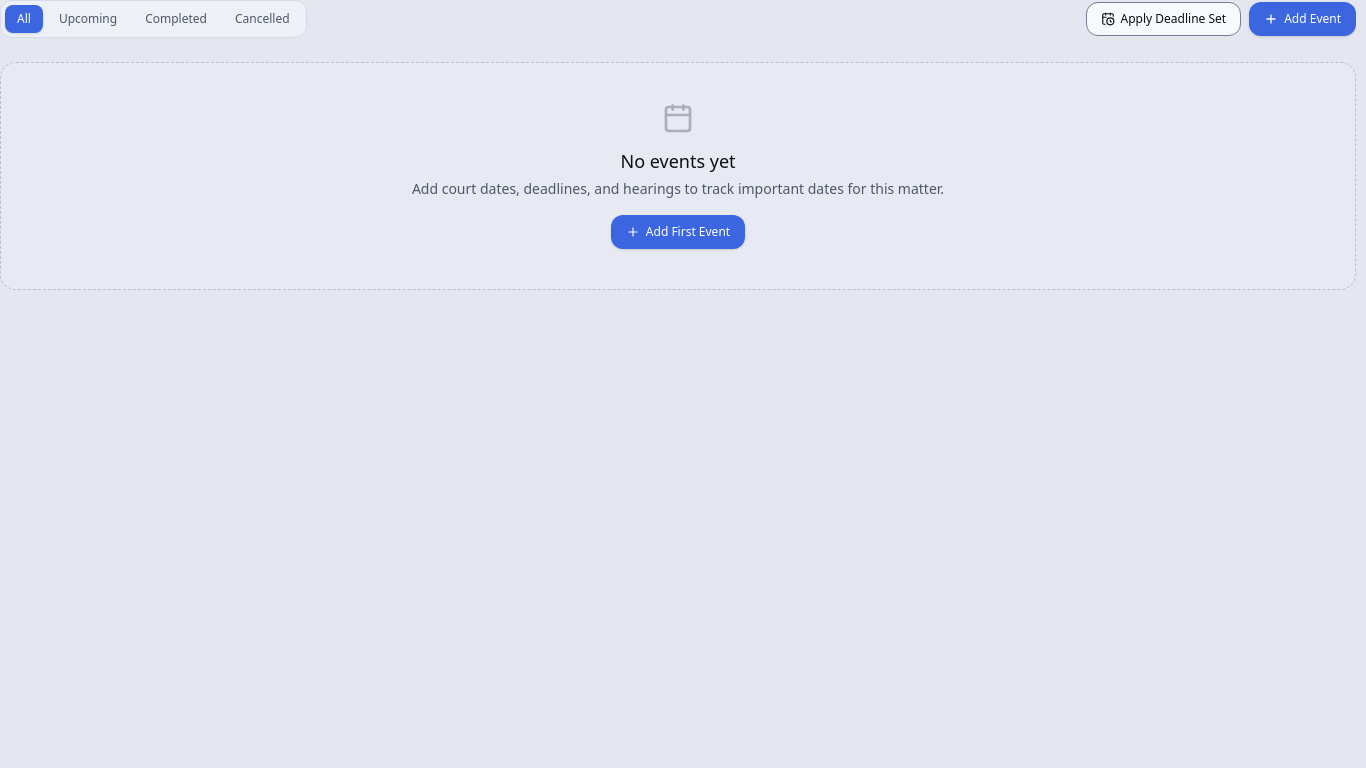
the end of an event › withholds Continue while the last day is before the first, and says why
Check: the text "No events yet" is shown, box [620,149,736,173]
Click the button "Add Event" at (1303, 19), box [1249,2,1356,36]
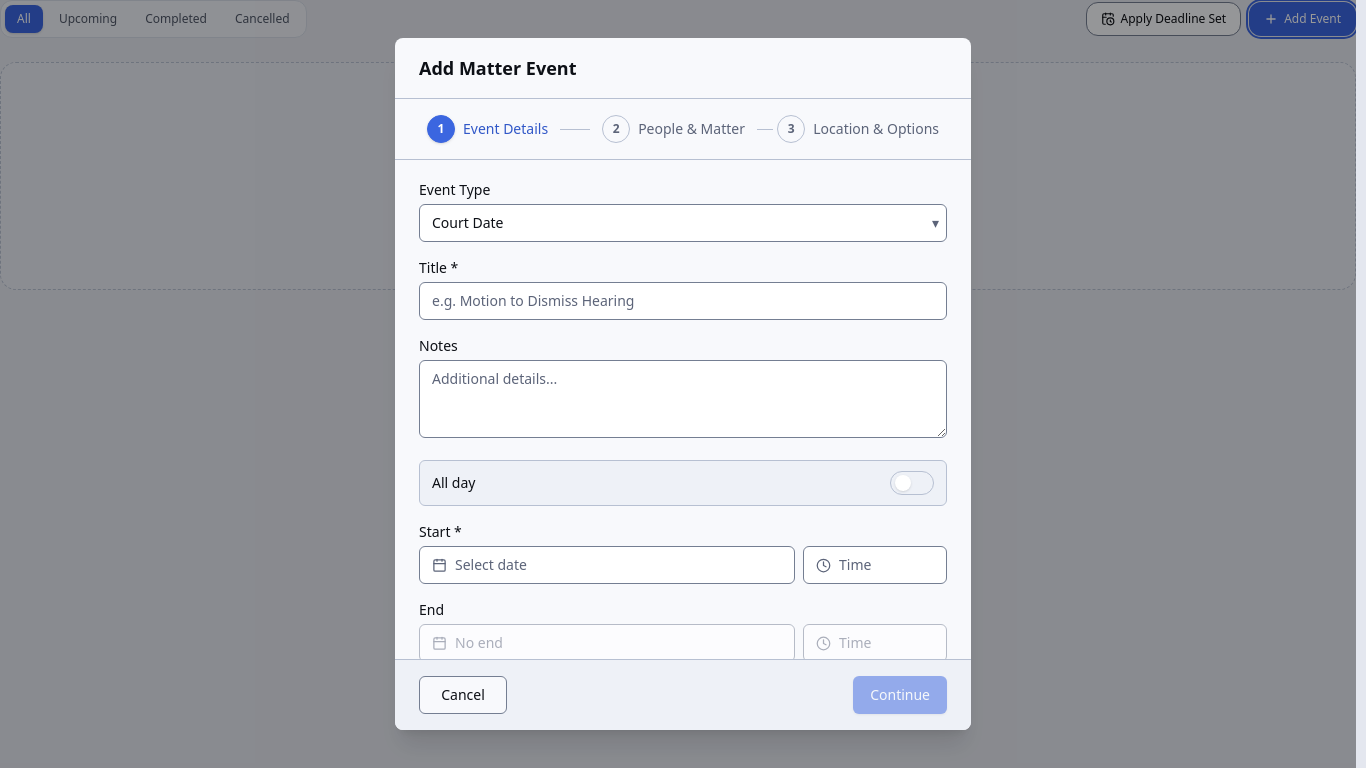
Type "Trial" into the field with placeholder "e.g. Motion to Dismiss Hearing" at (683, 301), box [419,282,947,320]
Click the switch named "All day" at (912, 483), box [890,471,934,495]
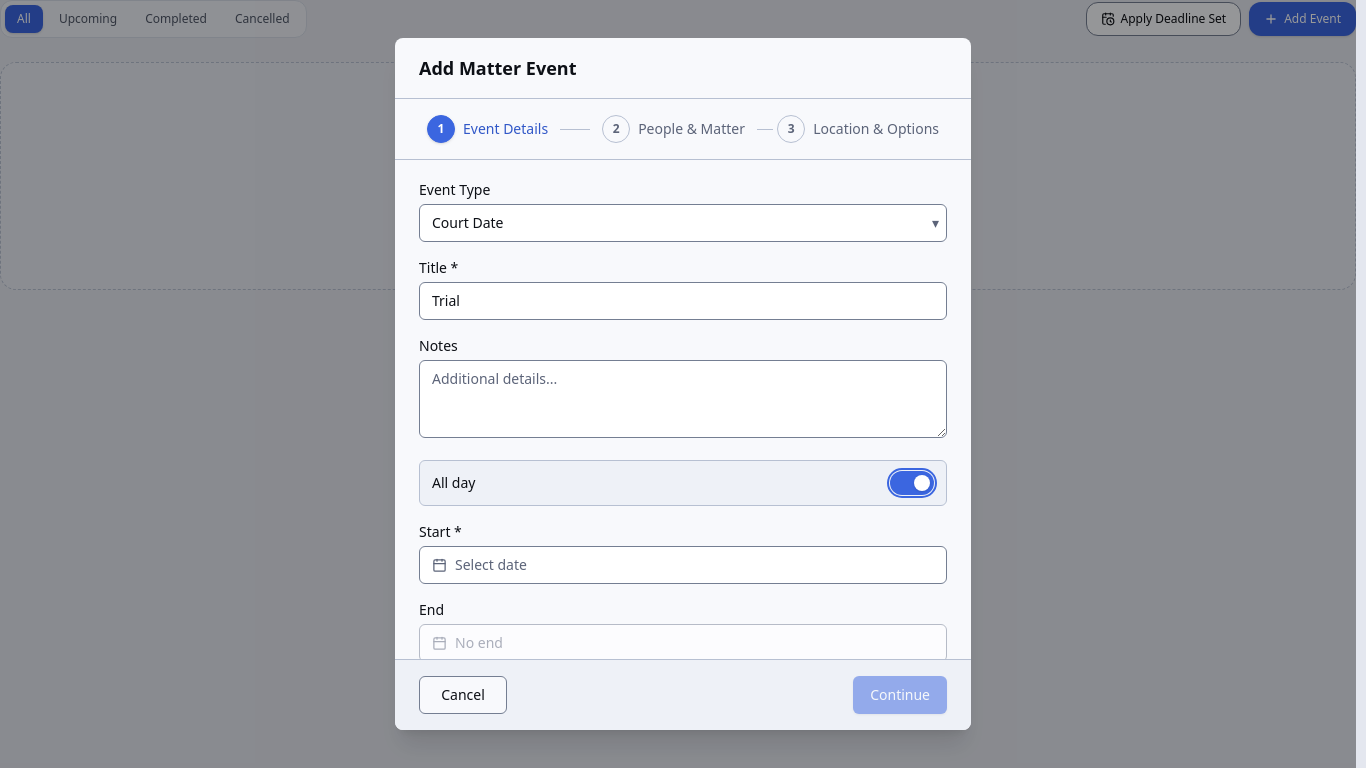
Click the button "Select date" at (491, 565), box [419,546,947,584]
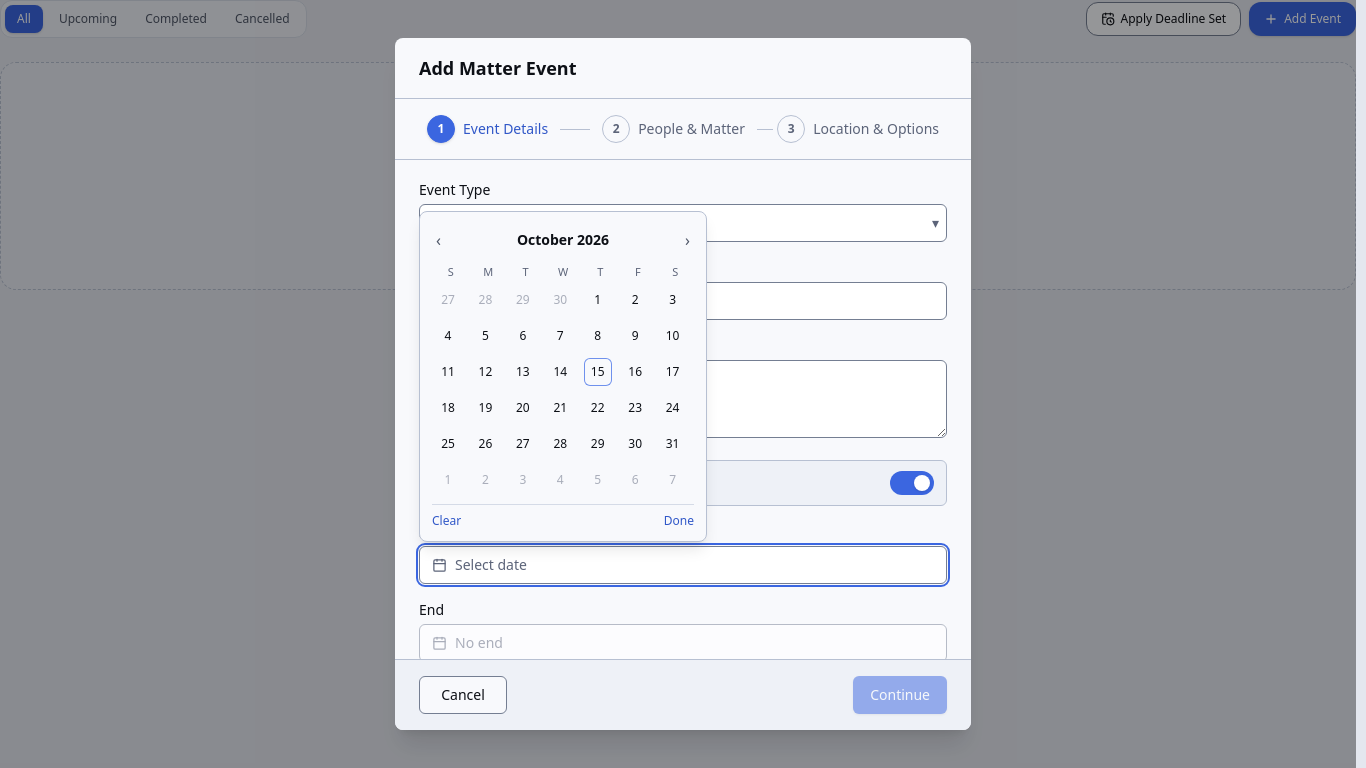
Click the button "20" at (523, 408), box [509,394,537,422]
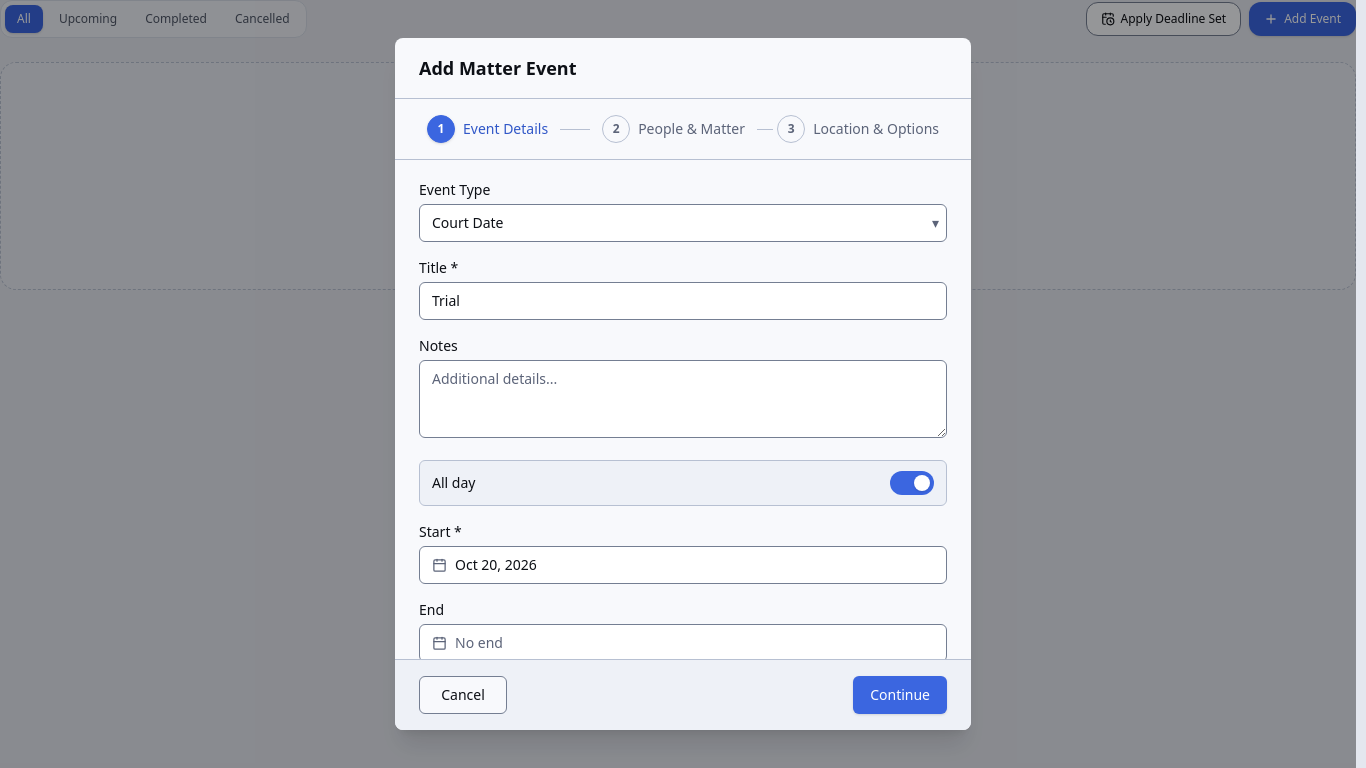
Check: the button "Continue" is enabled, box [853,676,947,714]
Click the button "No end" at (479, 643), box [419,624,947,662]
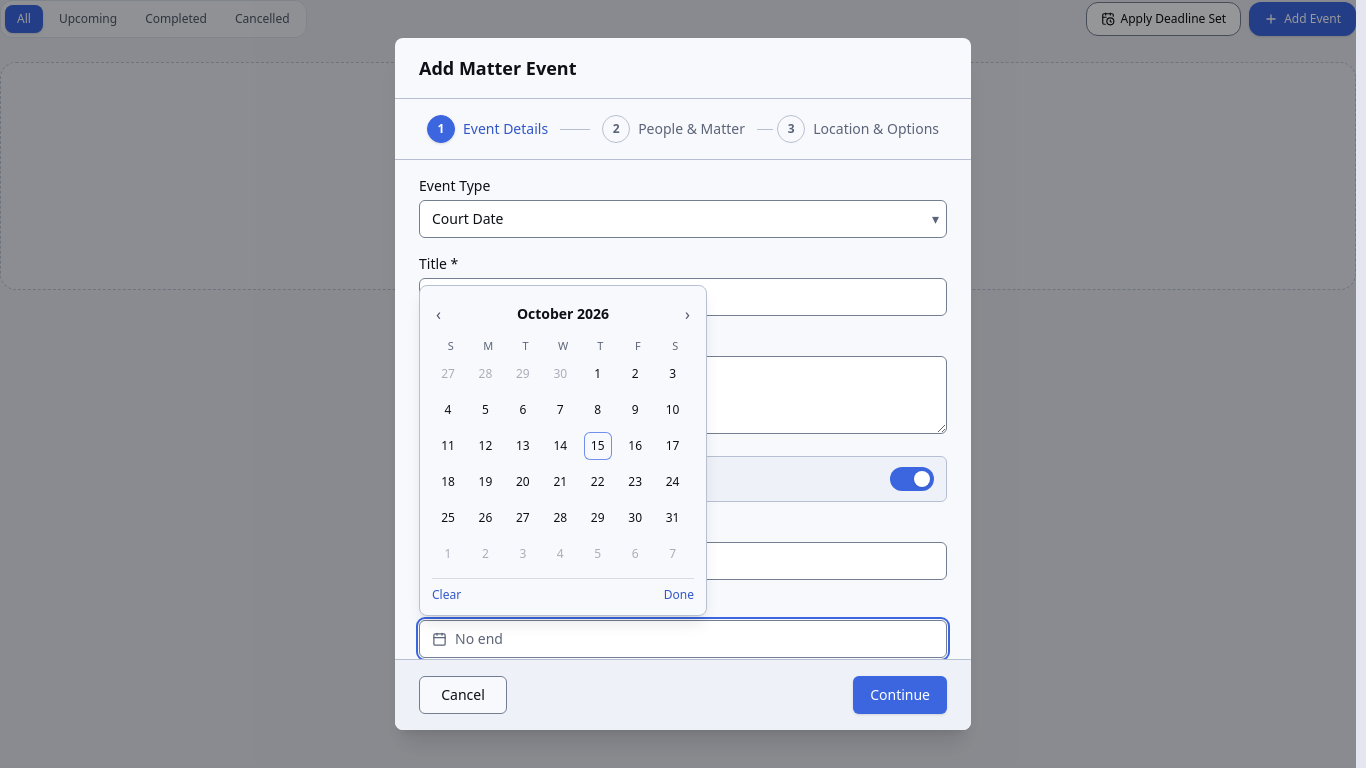
Click the button "16" at (635, 446), box [621,432,649,460]
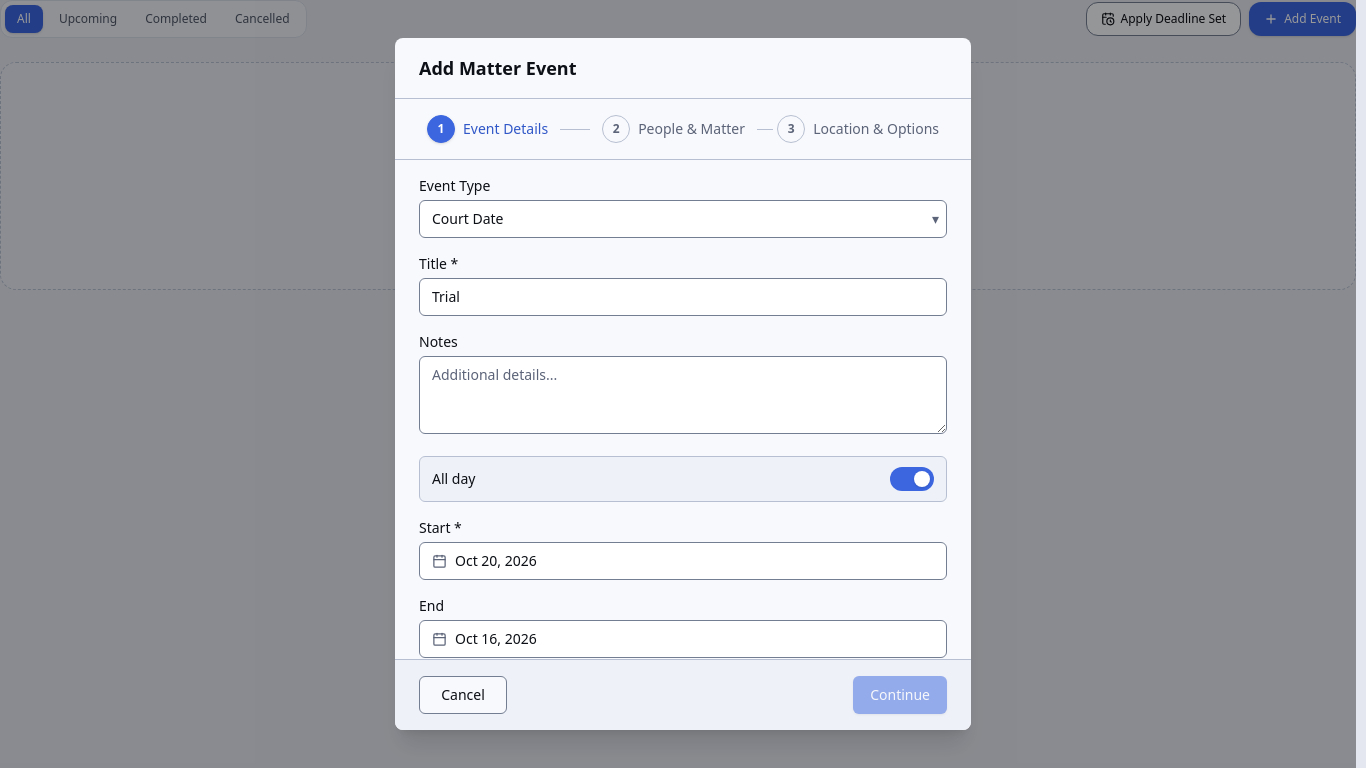
Check: the button "Continue" is disabled, box [853,676,947,714]
